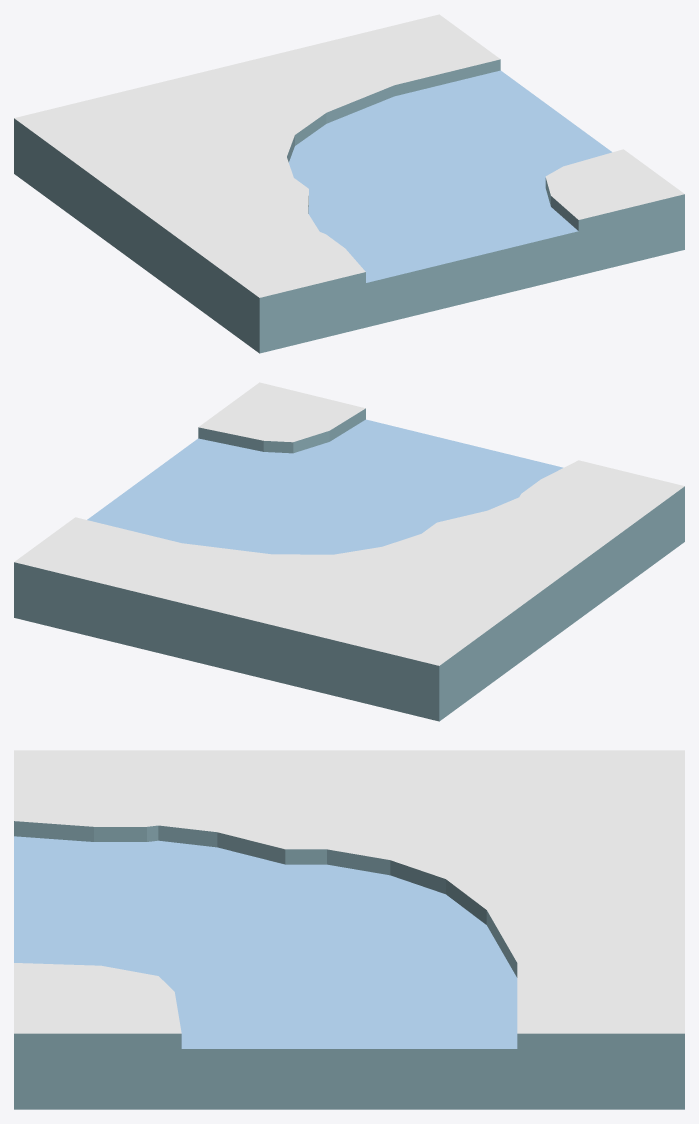
The model's file is Terrain_Tile_Ice_Snow_River_Bend_03.fbx.
The picture shows the model from 3 angles, top to bottom: view 1: azimuth 30°, elevation 25°; view 2: azimuth 150°, elevation 25°; view 3: azimuth 270°, elevation 25°; orthographic projection. The views are drawn at different scales.
Parts seen in each view (by area): view 1: Terrain_Tile_Ice_Snow_River_Bend_03; view 2: Terrain_Tile_Ice_Snow_River_Bend_03; view 3: Terrain_Tile_Ice_Snow_River_Bend_03.
Boxes of the visible parts, x1=… form: Terrain_Tile_Ice_Snow_River_Bend_03: x1=14, y1=14, x2=684, y2=353; Terrain_Tile_Ice_Snow_River_Bend_03: x1=14, y1=382, x2=684, y2=721; Terrain_Tile_Ice_Snow_River_Bend_03: x1=14, y1=750, x2=684, y2=1109.
Size of the model in its own units: 126 by 15.75 by 126.
